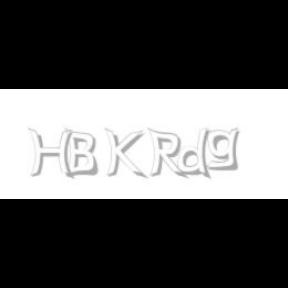B: (64, 128, 98, 178)
H: (28, 128, 74, 180)
K: (104, 128, 144, 180)
R: (147, 128, 185, 180)
d: (178, 128, 215, 180)
g: (206, 128, 244, 171)
